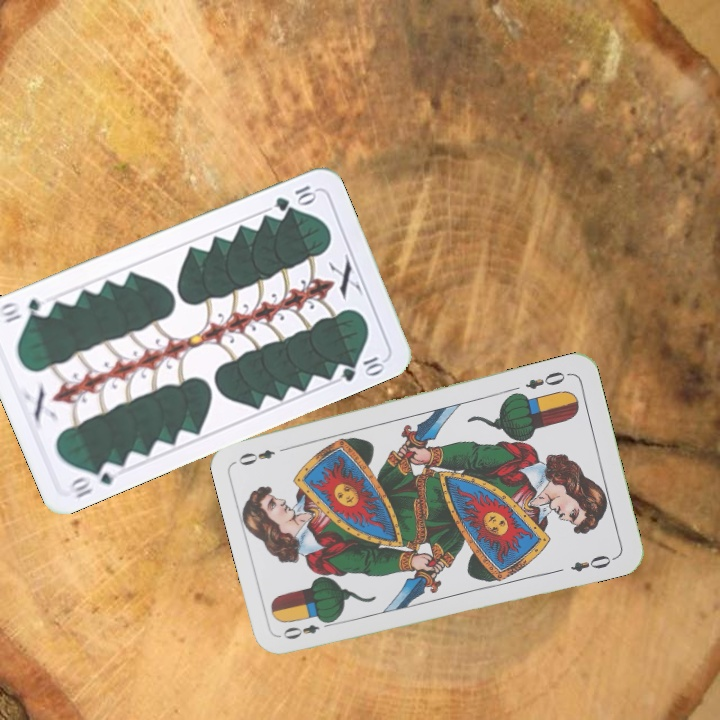EO: (279, 616, 337, 642), (521, 367, 572, 392)
G10: (64, 458, 123, 501), (270, 181, 319, 214)
